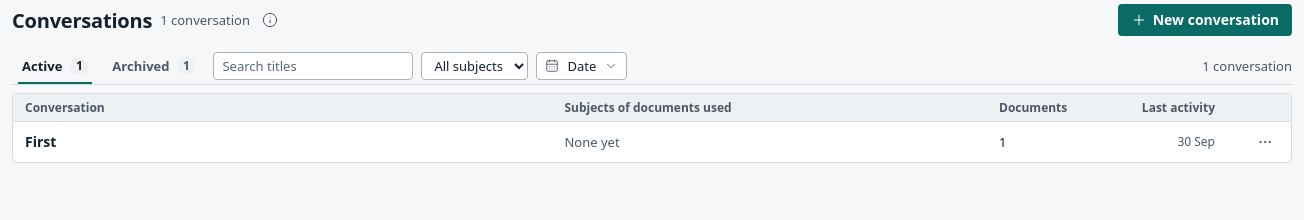
Test: ConversationsPage › archiving › the Archived tab lists archived conversations with the notice
Click the tab "Archived 1": (154, 66) [102, 48, 205, 84]
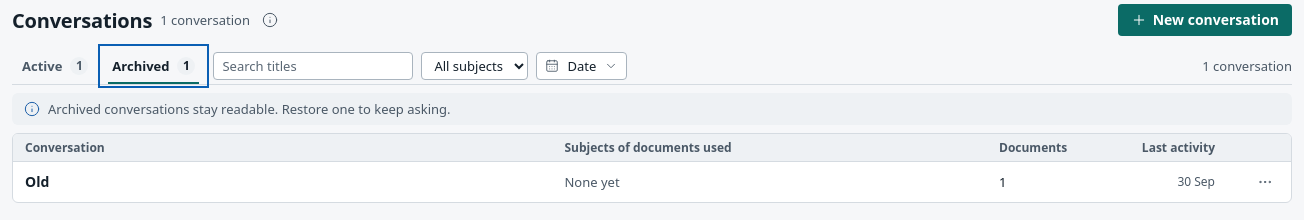
expect the link "Old" is shown: met, box [25, 172, 49, 191]
expect the link "First" is gone: met
expect the text "Archived conversations stay readable. Restore one to keep asking." is shown: met, box [12, 93, 1292, 125]
